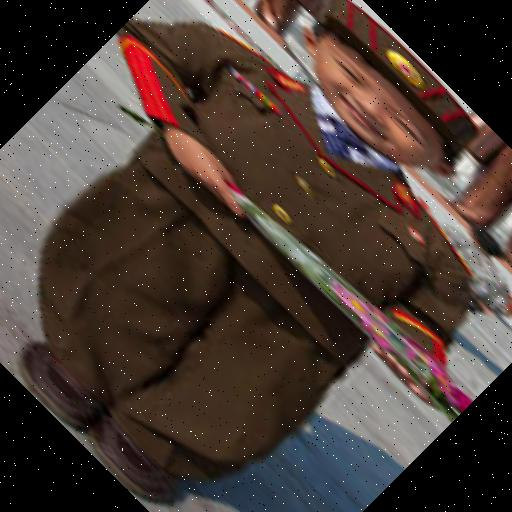north army: (117, 5, 445, 508)
